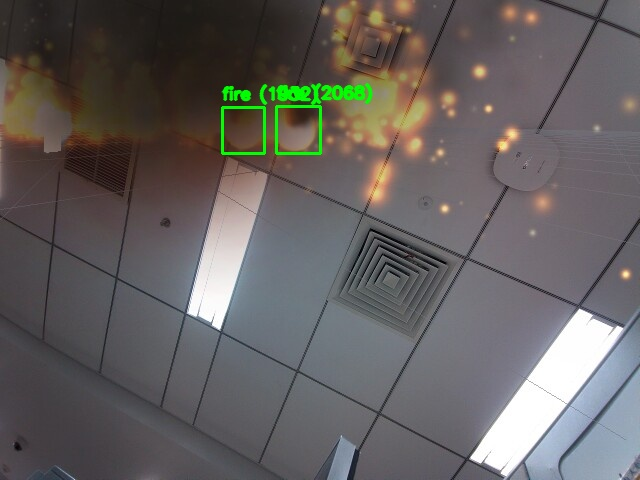fire: (276, 106, 320, 153), (222, 107, 264, 153)
